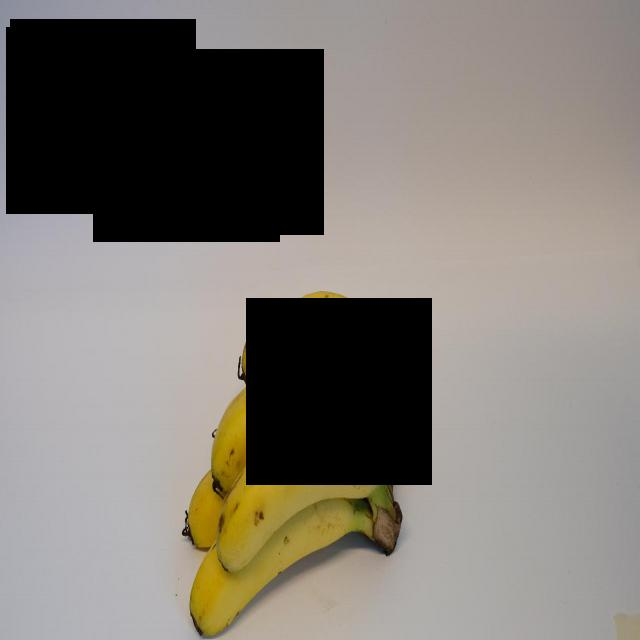banana: (212, 413, 393, 589), (183, 493, 367, 637), (228, 301, 398, 446), (212, 360, 378, 499), (301, 275, 420, 449)
